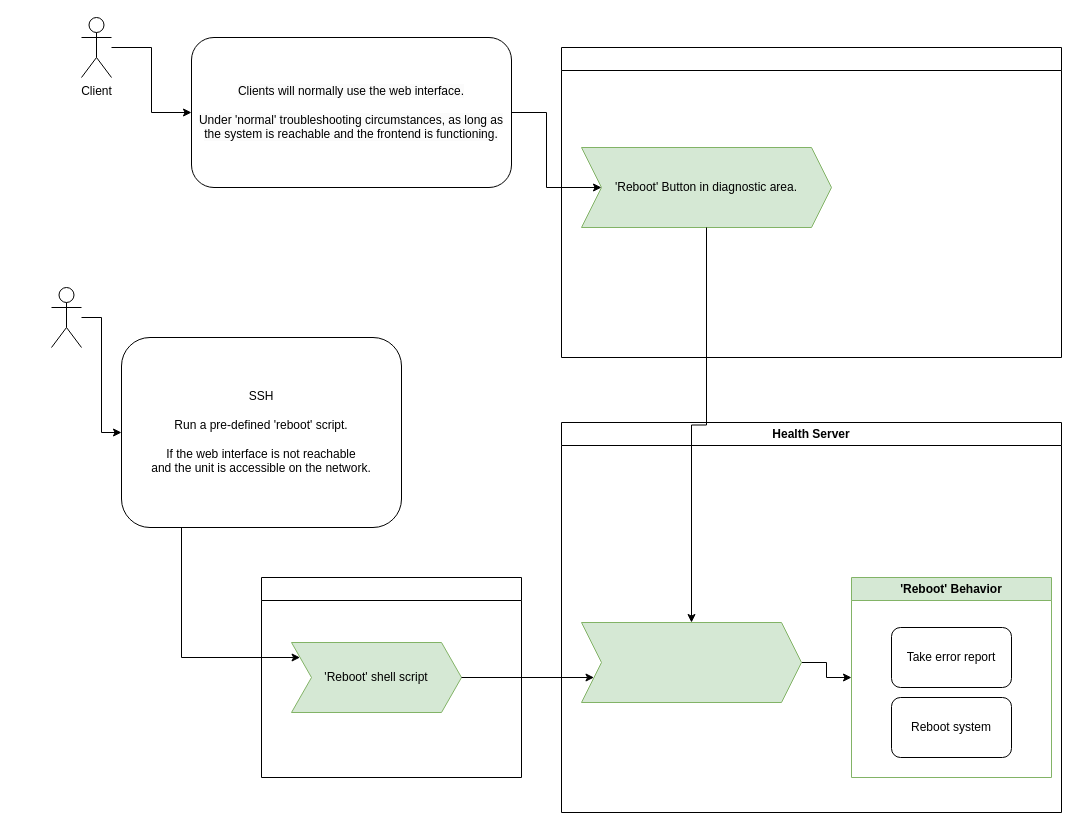
Image size: 1079x830. Some labels were removed from this diagram. The box of each missing label's shape, as (x1, y1, x2, y2) in pixels:
'Reboot' HTTP entry point: (580, 622, 802, 702)
CoPilot Frontend: (560, 46, 1062, 358)
CoPilot OS: (260, 576, 522, 778)
RJG Tech Support: (50, 286, 82, 348)
